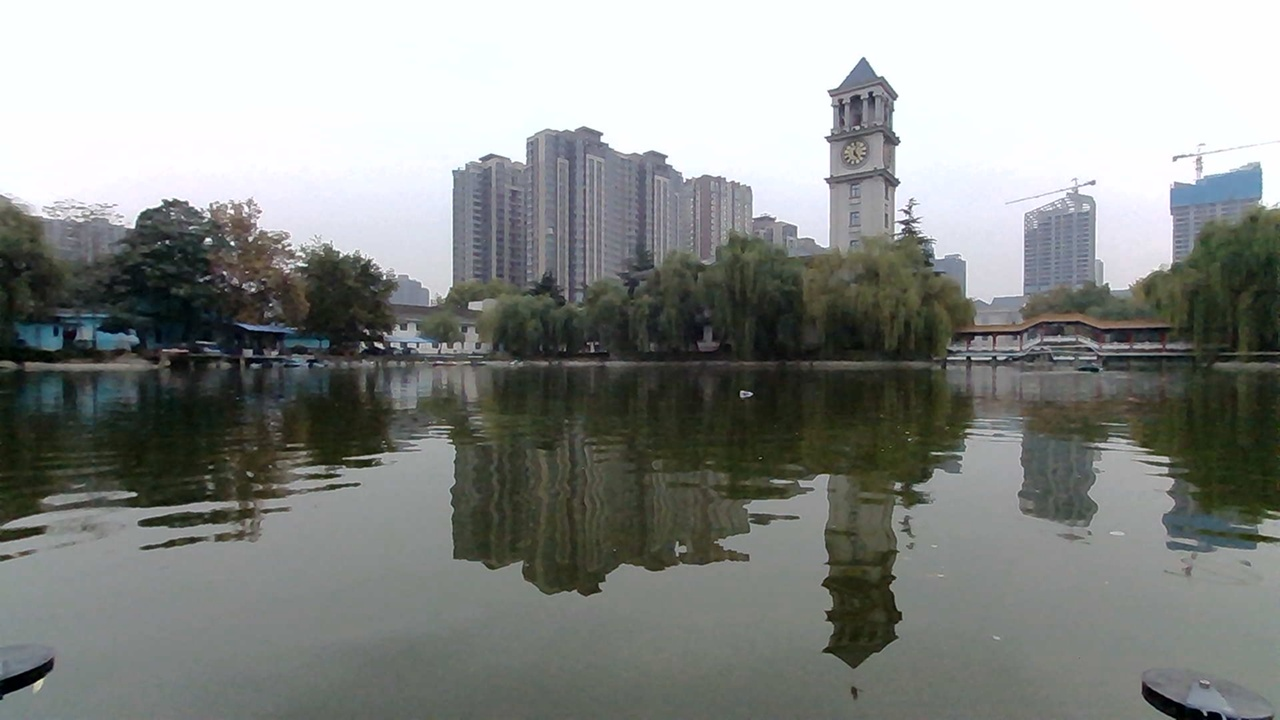bottle: (725, 382, 764, 412)
